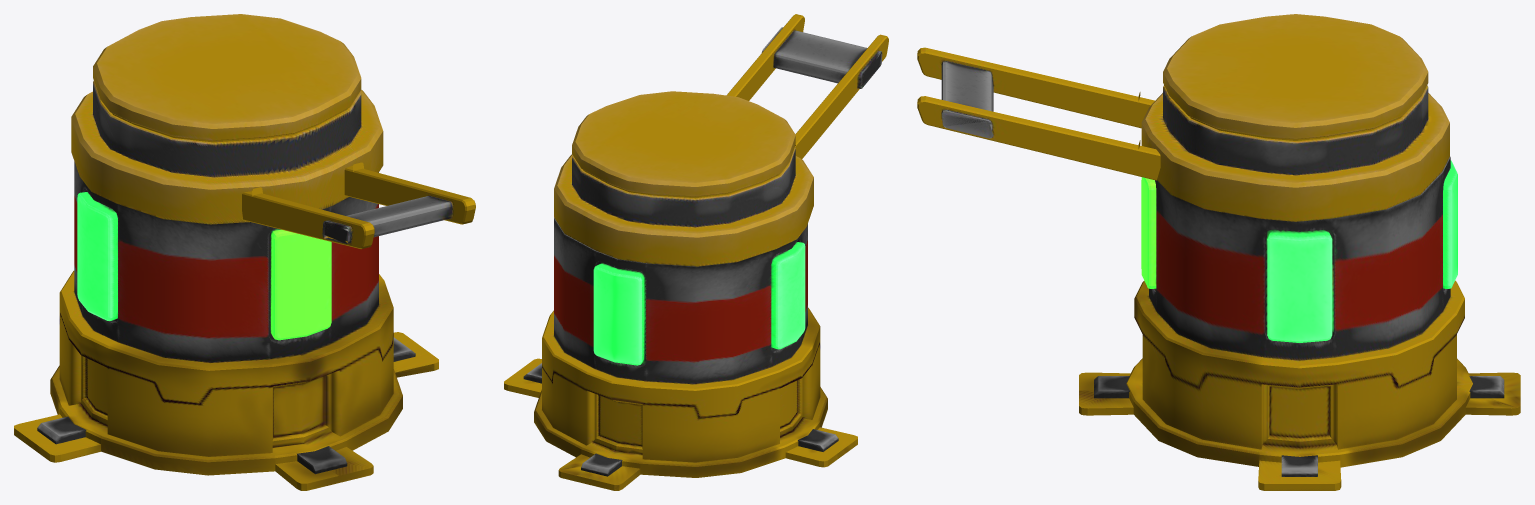
The model's file is Bomba.fbx.
3 renders of one model, left to right at view 1: azimuth 30°, elevation 25°; view 2: azimuth 150°, elevation 25°; view 3: azimuth 270°, elevation 25°, orthographic. The views are drawn at different scales.
Visible parts, largest first — view 1: g Cannister:Group2.001, g Cannister:Group3; view 2: g Cannister:Group2.001, g Cannister:Group3; view 3: g Cannister:Group2.001, g Cannister:Group3.
Boxes of the visible parts, <box> form: g Cannister:Group2.001: <box>14,161,475,490</box>; g Cannister:Group3: <box>71,14,383,224</box>; g Cannister:Group2.001: <box>504,14,888,490</box>; g Cannister:Group3: <box>554,91,813,266</box>; g Cannister:Group2.001: <box>917,47,1520,490</box>; g Cannister:Group3: <box>1141,14,1449,221</box>.
Size of the model in its own units: 162 by 133 by 221.
